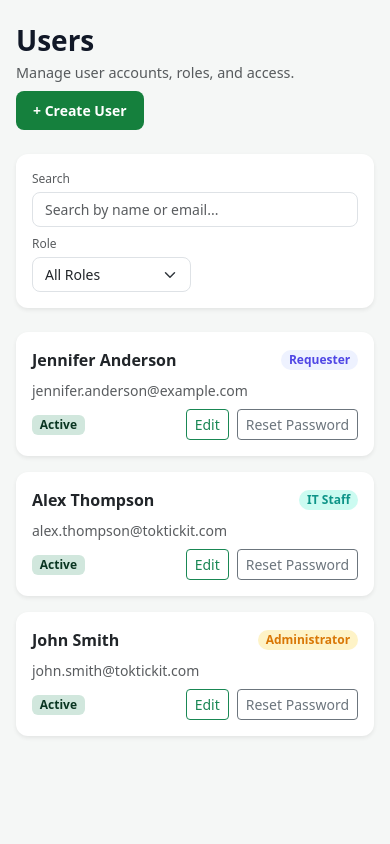
Test case: UserManagement UI Tests (Lab 3 - Issue 6) › BR-13 defense in depth: the Active toggle is disabled when editing your own account
The width and height of the screenshot is (390, 844).
Expected: the text "John Smith" is shown, [32, 628, 119, 652]
Step 1. Click the button "Edit" below "john.smith@toktickit.com" → [207, 705], box [186, 689, 229, 720]
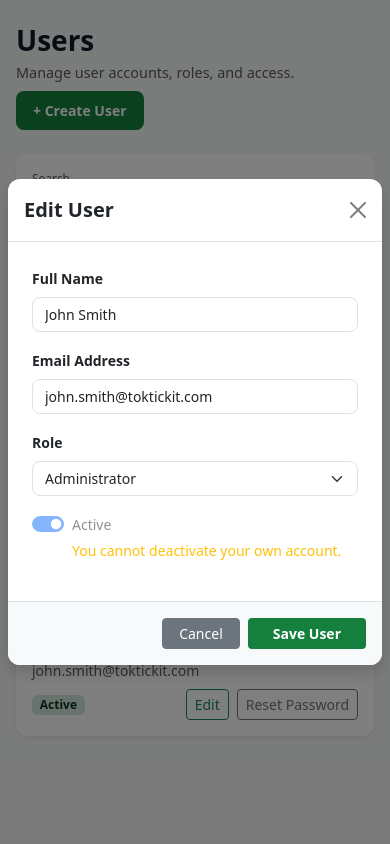
Now the checkbox labelled "Active" is disabled, box [32, 516, 64, 532]
Now the text "You cannot deactivate your own account." is shown, box [72, 540, 358, 561]
